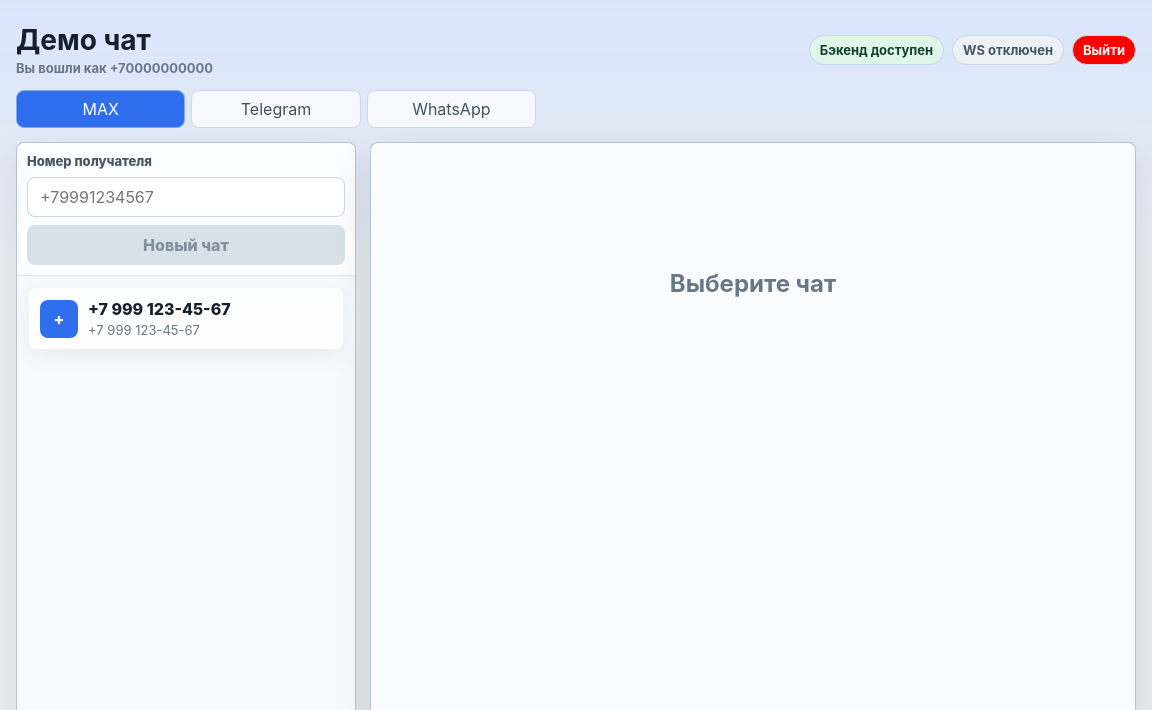
Test: ChatWorkspace › applies incoming websocket messages to the opened chat
Click the button "+ +7 999 123-45-67 +7 999 123-45-67".
click(186, 319)  # box [29,288,343,349]
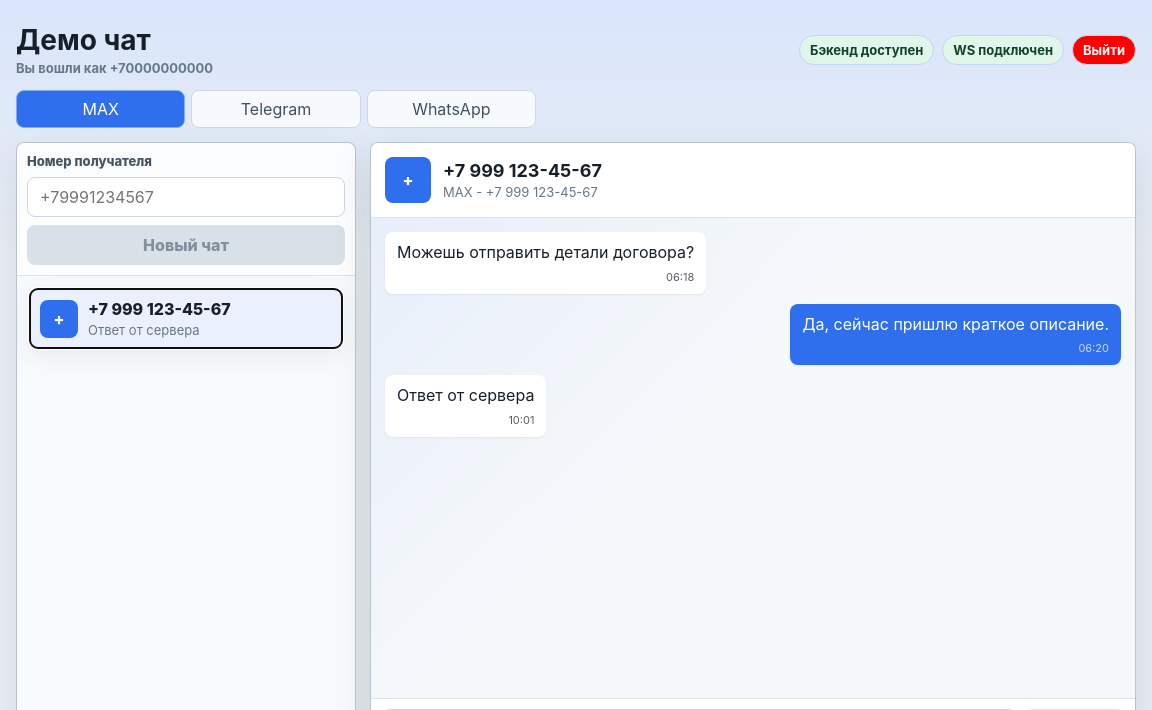
Now the text "Ответ от сервера" below "06:18" is shown, box [397,385,534,405]
